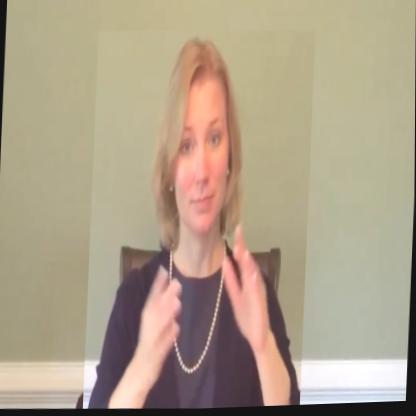NiceToMeetYou: (84, 25, 316, 413)
